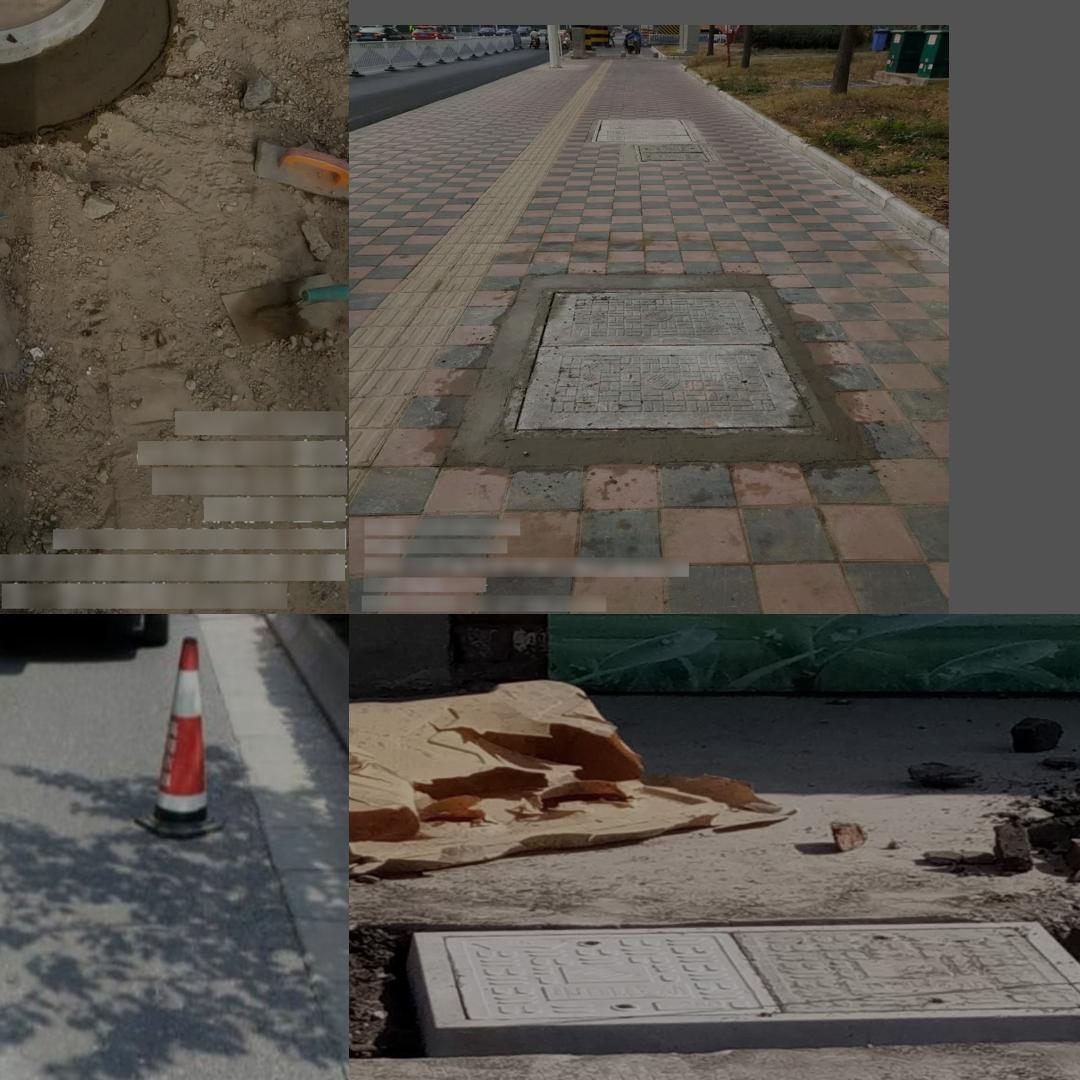good: (409, 921, 1080, 1029), (492, 287, 834, 437), (0, 0, 113, 65)
